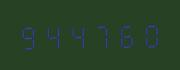four: (41, 20, 64, 50), (66, 20, 89, 50)
nine: (17, 21, 40, 50)
seven: (90, 20, 113, 49)
six: (114, 19, 137, 49)
zero: (138, 19, 161, 48)
